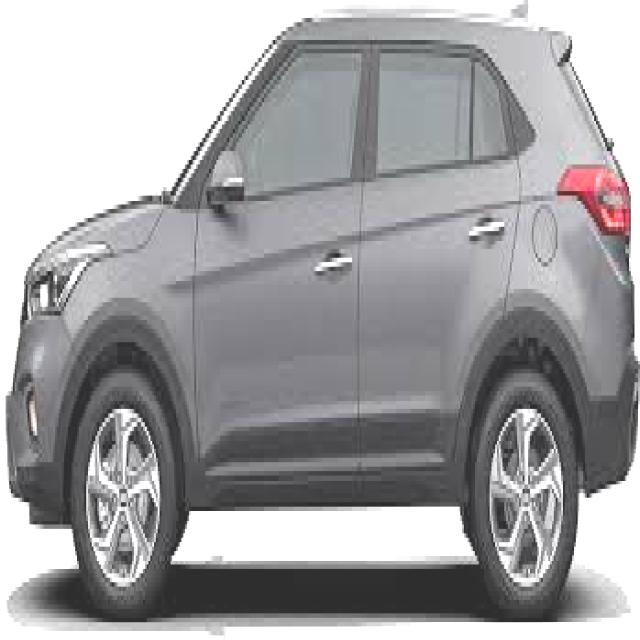SUV: (34, 1, 640, 619)
